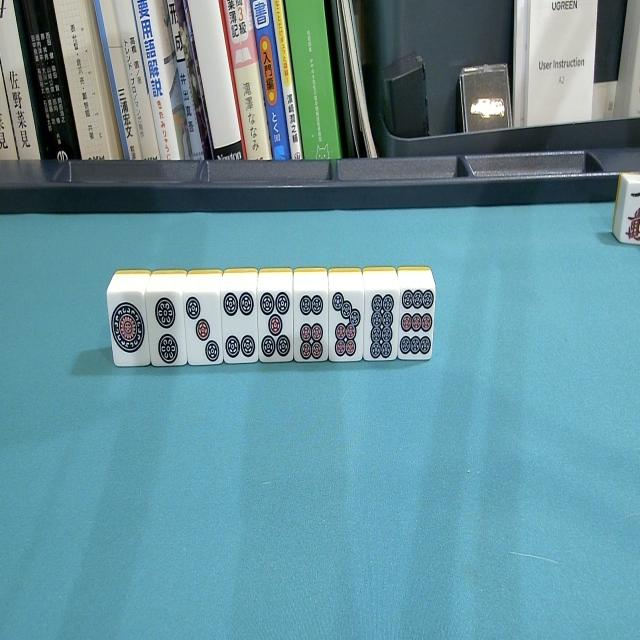1_pin: (106, 268, 152, 372)
2_pin: (146, 267, 190, 376)
3_pin: (183, 262, 227, 377)
4_pin: (219, 263, 261, 373)
5_pin: (254, 261, 296, 368)
6_pin: (290, 262, 332, 370)
7_sou: (326, 263, 364, 369)
8_sou: (359, 264, 401, 365)
9_sou: (395, 264, 437, 366)
